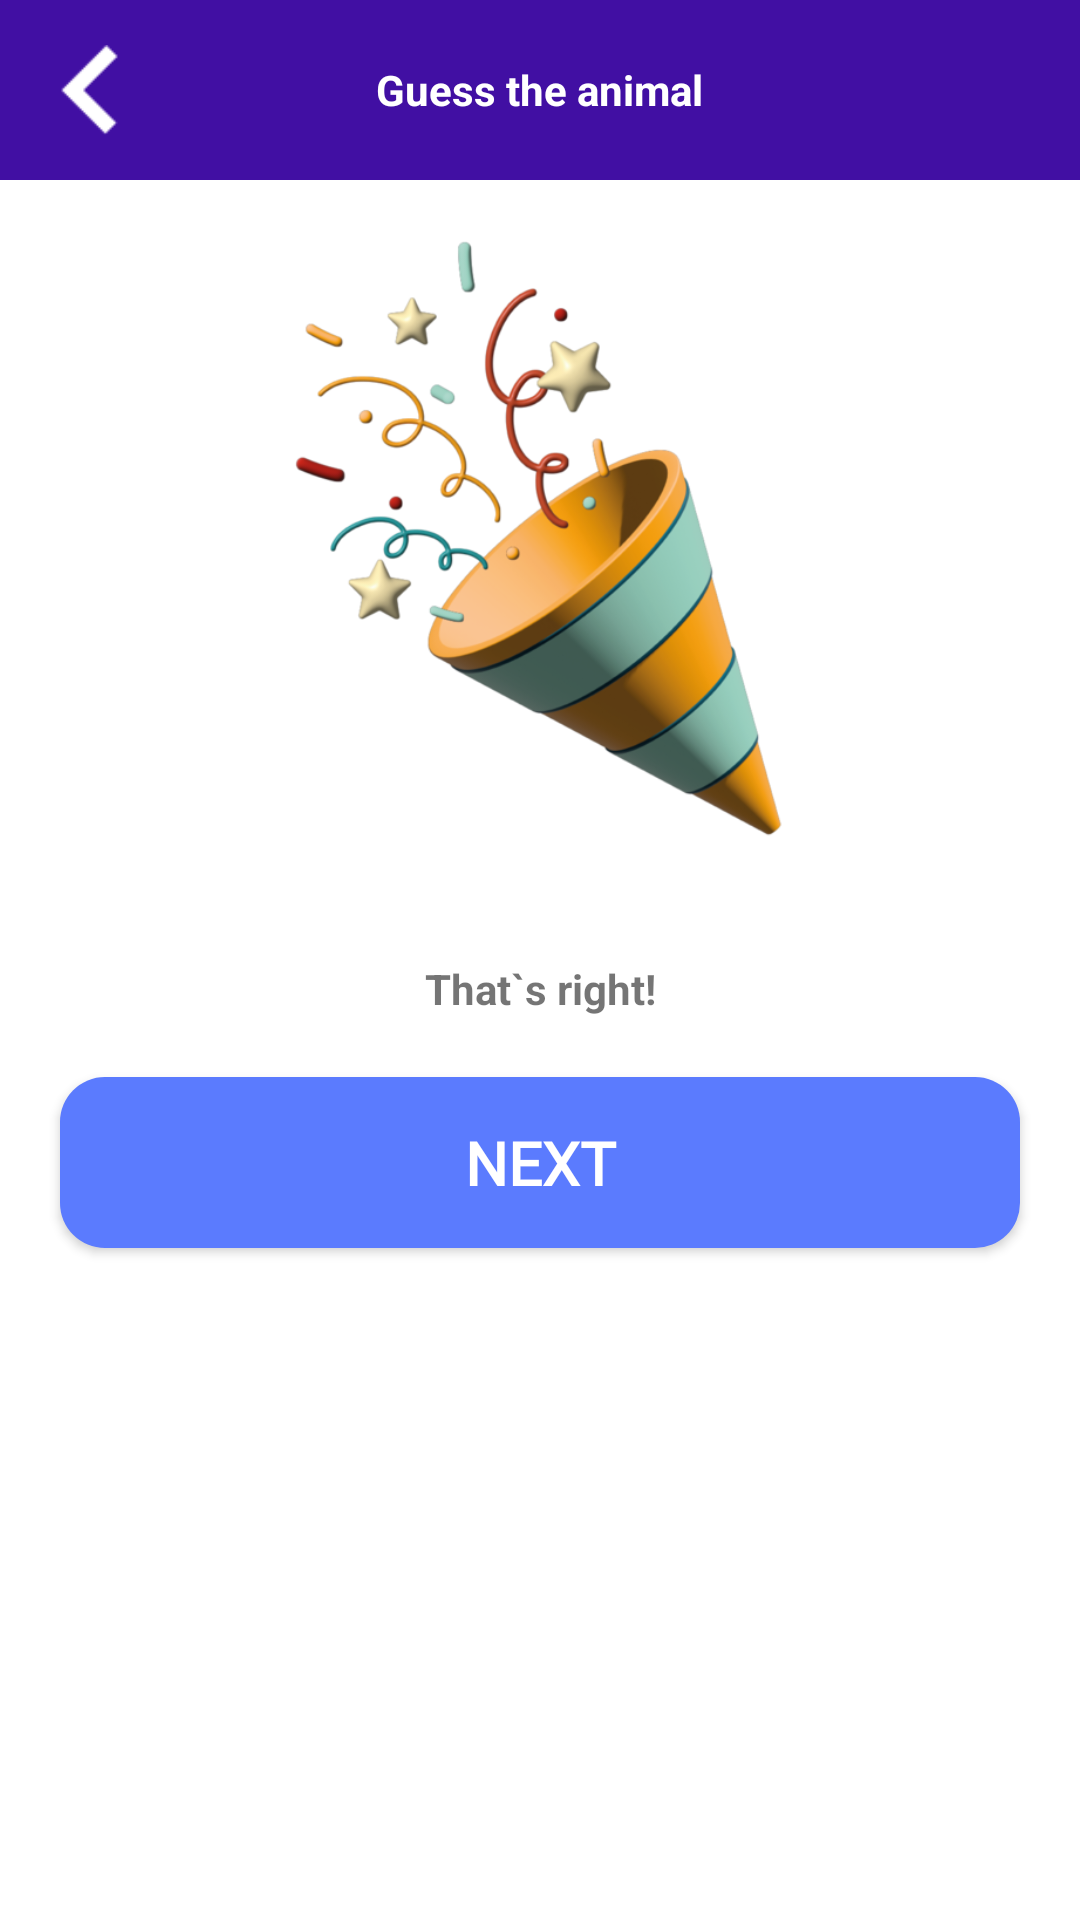

Icon bounding boxes for this 1080 × 1920 phone screenshot, format (x1, y1, x2, y2):
back: (61, 45, 118, 134)
